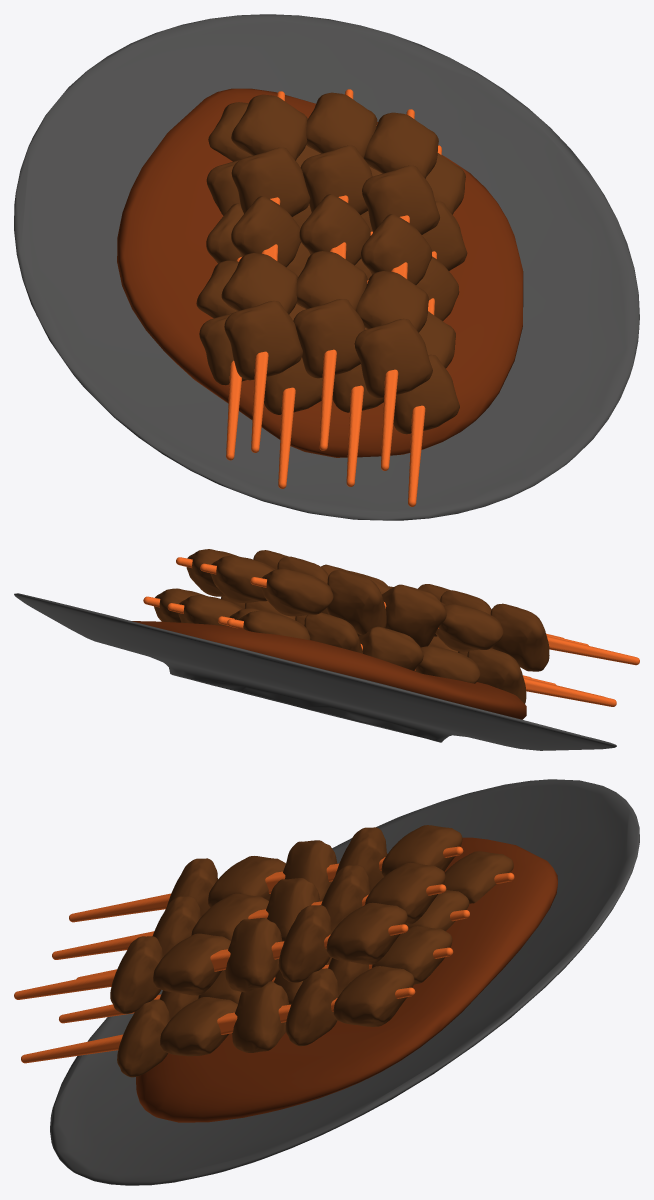
The model's file is sate-sis.glb.
3 views of the same model, one above another, from view 1: azimuth 30°, elevation 25°; view 2: azimuth 150°, elevation 25°; view 3: azimuth 270°, elevation 25° (orthographic). The views are drawn at different scales.
Visible parts, largest first — view 1: Circle.182, Cube.115, Cube.145, Cube.157, Cube.151, Cube.142, Cube.154, Cube.140, Cube.152, Cube.146, Cube.144, Cube.148 (+24 smaller); view 2: Circle.182, Cube.115, Cube.142, Cube.143, Cube.145, Cube.140, Cube.144, Cube.146, Cube.100, Cube.102, Cube.101, Cube.099 (+10 smaller); view 3: Circle.182, Cube.115, Cube.152, Cube.128, Cube.155, Cube.156, Cube.132, Cube.131, Cube.154, Cube.130, Cube.157, Cube.133 (+21 smaller).
Boxes of the visible parts, left/top/right/bottom form: Circle.182: left=14, top=14, right=639, bottom=520; Cube.115: left=117, top=88, right=523, bottom=457; Cube.145: left=224, top=301, right=302, bottom=380; Cube.157: left=354, top=318, right=432, bottom=398; Cube.151: left=293, top=299, right=365, bottom=378; Cube.142: left=231, top=147, right=310, bottom=216; Cube.154: left=362, top=165, right=439, bottom=234; Cube.140: left=231, top=94, right=307, bottom=160; Cube.152: left=364, top=112, right=438, bottom=178; Cube.146: left=306, top=92, right=377, bottom=158; Cube.144: left=221, top=253, right=297, bottom=314; Cube.148: left=300, top=145, right=372, bottom=214; Circle.182: left=14, top=593, right=616, bottom=750; Cube.115: left=132, top=621, right=526, bottom=719; Cube.142: left=327, top=570, right=386, bottom=634; Cube.143: left=382, top=584, right=446, bottom=647; Cube.145: left=490, top=603, right=549, bottom=671; Cube.140: left=261, top=569, right=333, bottom=616; Cube.144: left=435, top=604, right=503, bottom=651; Cube.146: left=210, top=555, right=275, bottom=602; Cube.100: left=358, top=626, right=423, bottom=670; Cube.102: left=467, top=648, right=526, bottom=703; Cube.101: left=414, top=646, right=480, bottom=683; Cube.099: left=304, top=612, right=362, bottom=653; Circle.182: left=50, top=779, right=639, bottom=1185; Cube.115: left=136, top=837, right=557, bottom=1122; Cube.152: left=326, top=902, right=407, bottom=964; Cube.128: left=333, top=966, right=414, bottom=1026; Cube.155: left=225, top=918, right=282, bottom=992; Cube.156: left=153, top=933, right=230, bottom=995; Cube.132: left=160, top=997, right=237, bottom=1056; Cube.131: left=232, top=981, right=289, bottom=1052; Cube.154: left=278, top=905, right=332, bottom=982; Cube.130: left=285, top=968, right=338, bottom=1046; Cube.157: left=110, top=936, right=162, bottom=1013; Cube.133: left=117, top=999, right=169, bottom=1077.
Bounding box in the file's own units: 0.2801 × 0.135 × 0.2608.
